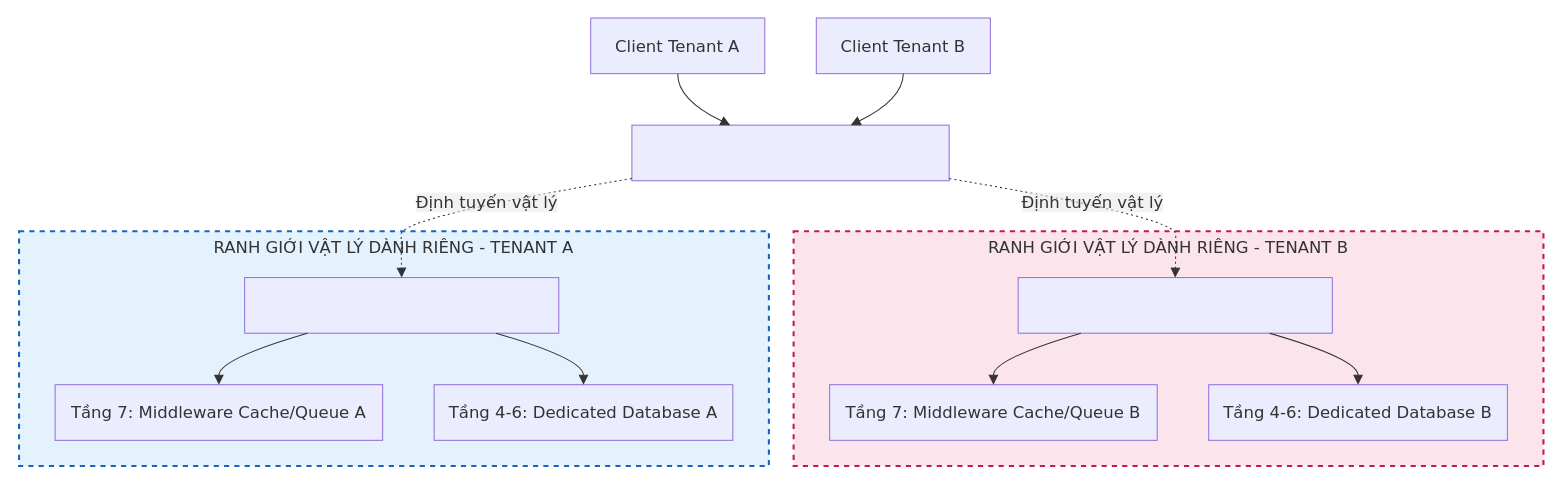
The diagram is 1561 pixels wide and 485 high, and some of its shapes have lost their labels. The shapes that lost their labels are listed below. From the top down, each one's centre as x and y in pixels, then its label:
At pixel 790 152: "Bộ Định tuyến Mạng / DNS Routing".
At pixel 401 305: "Tầng 8-9: App Server & Instance A".
At pixel 1174 305: "Tầng 8-9: App Server & Instance B".
